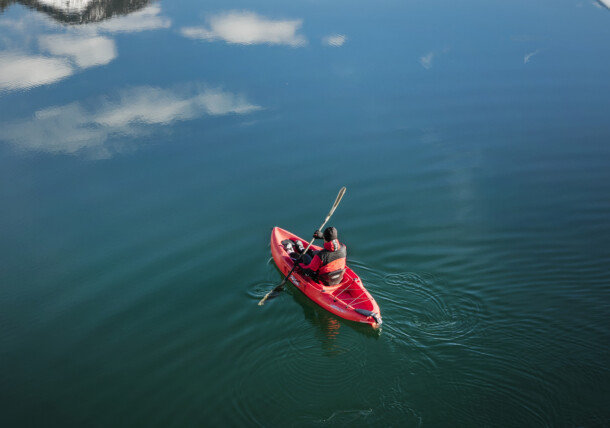kayaker: (255, 186, 386, 335)
